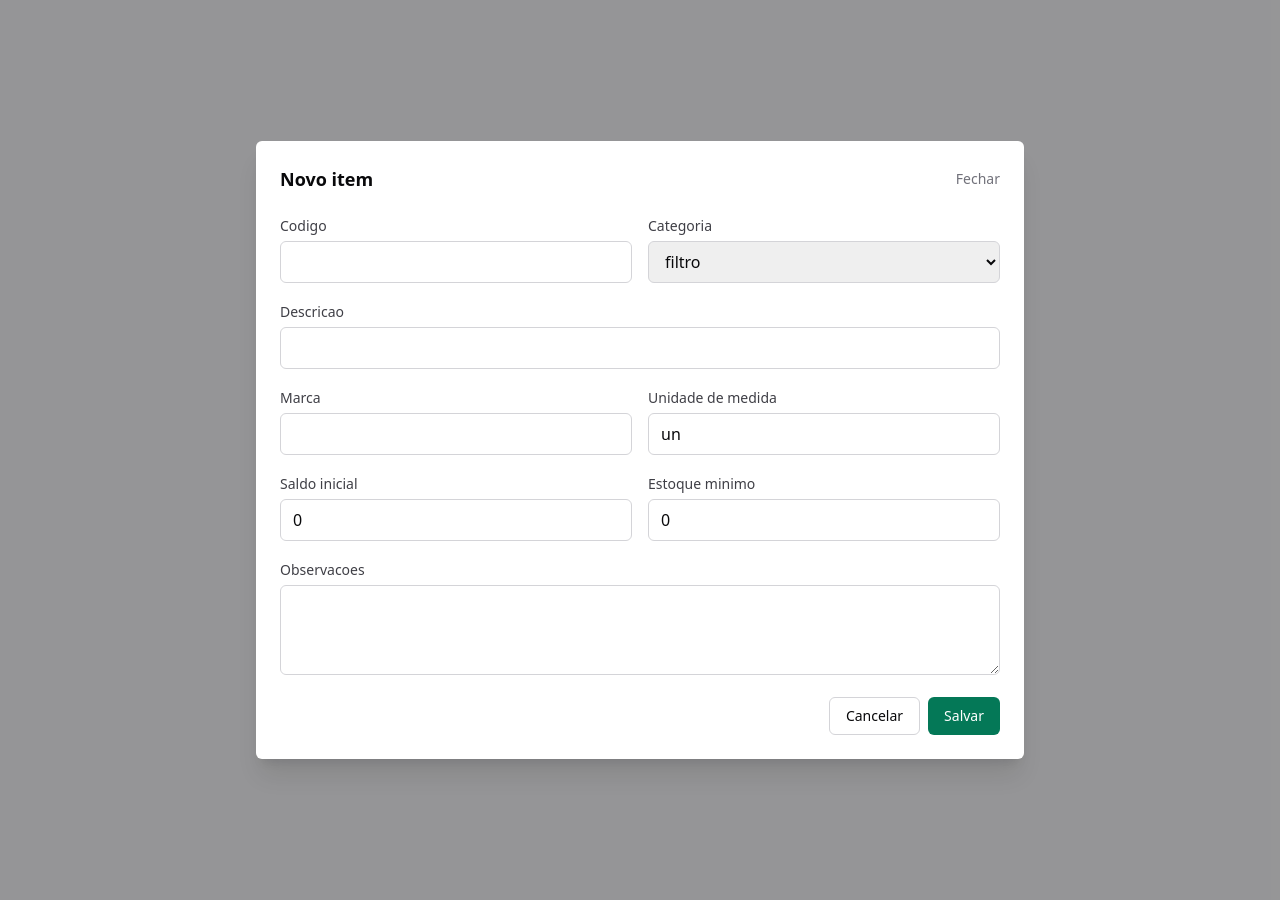
Test case: ItemEstoqueFormModal › valida saldo inicial negativo
Replace the text in the number field labelled "Saldo inicial" with "-1" at (456, 520), box [280,499,632,541]
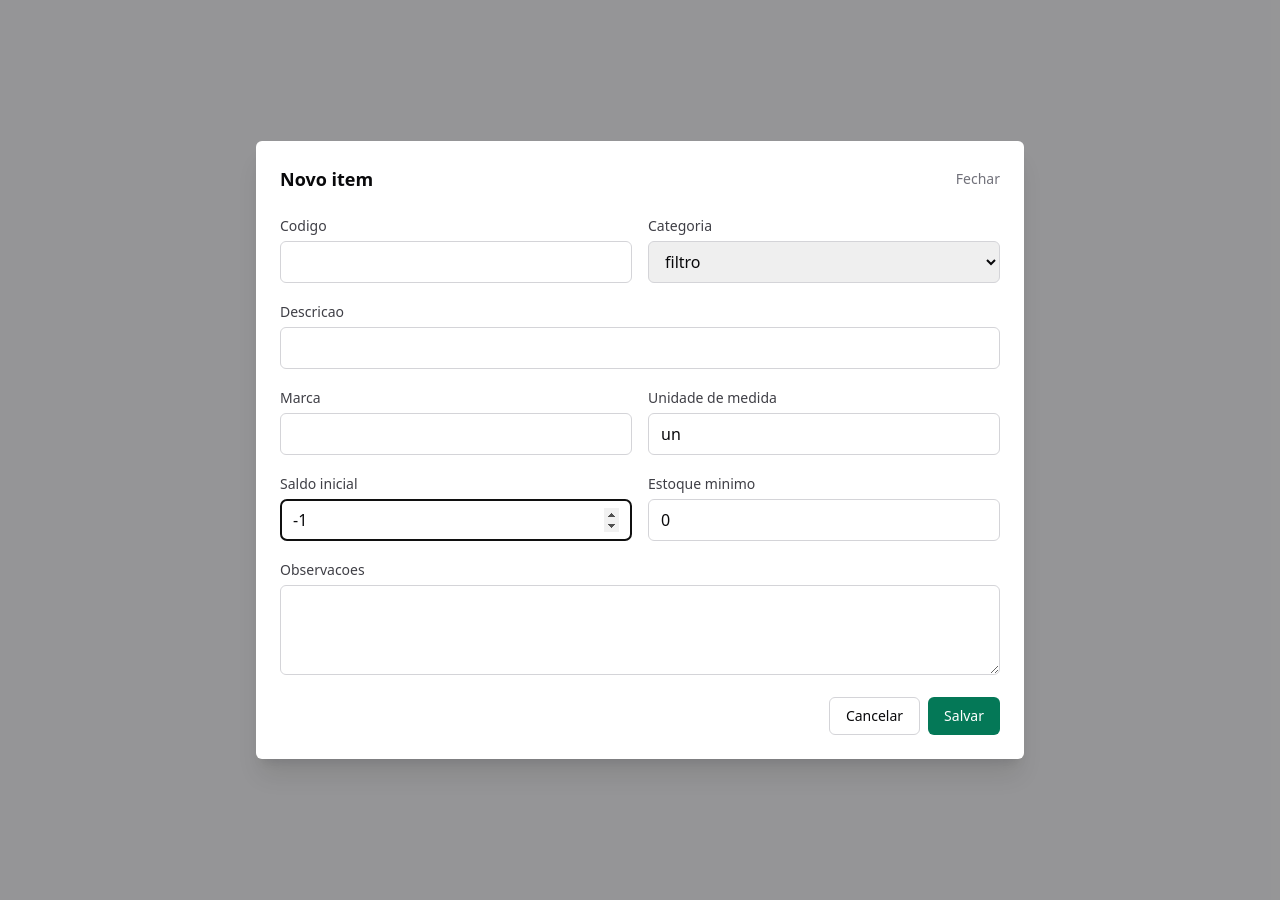
Click the button "Salvar" at (964, 716), box [928,697,1000,735]
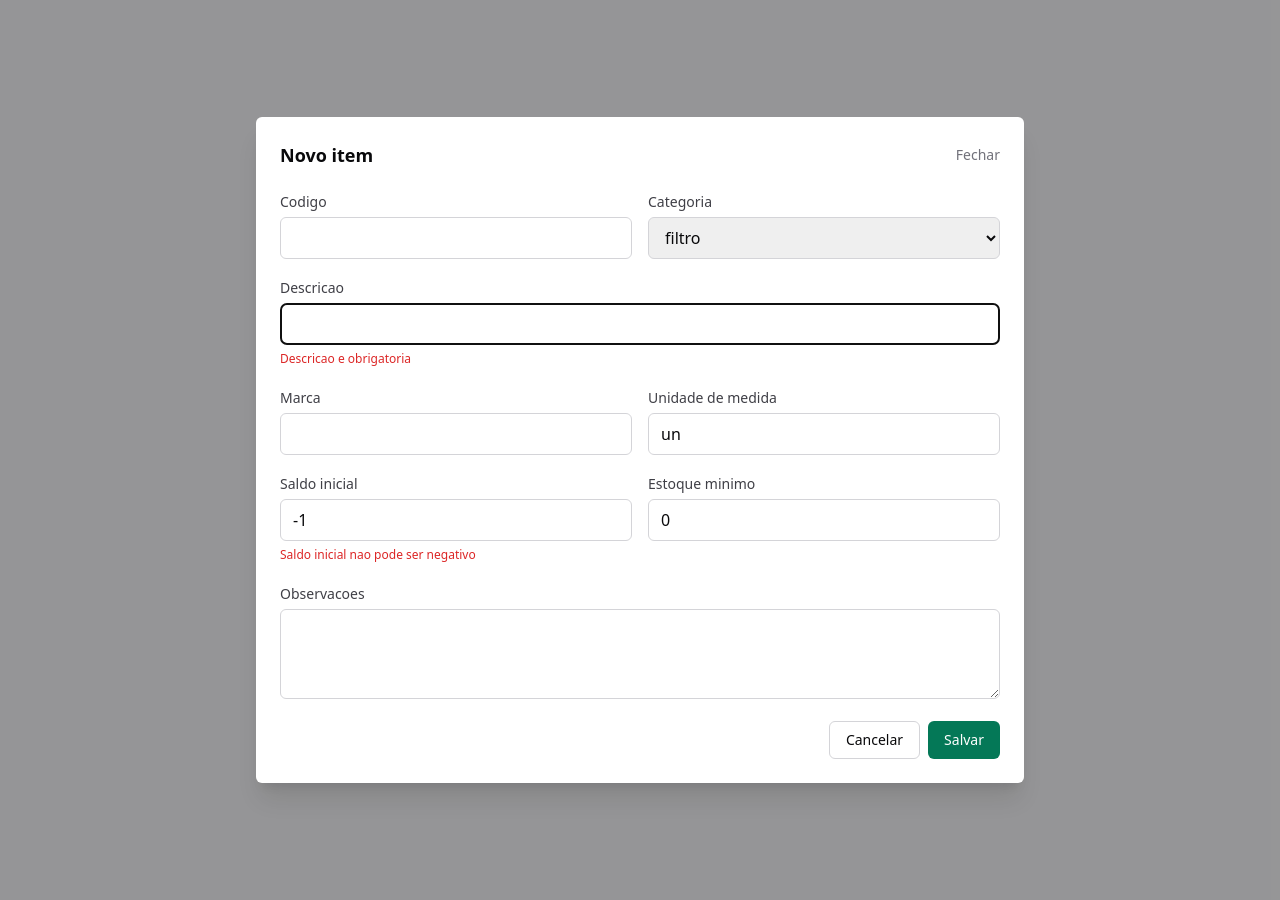
Now the text "Saldo inicial nao pode ser negativo" is shown, box [280,546,476,563]
